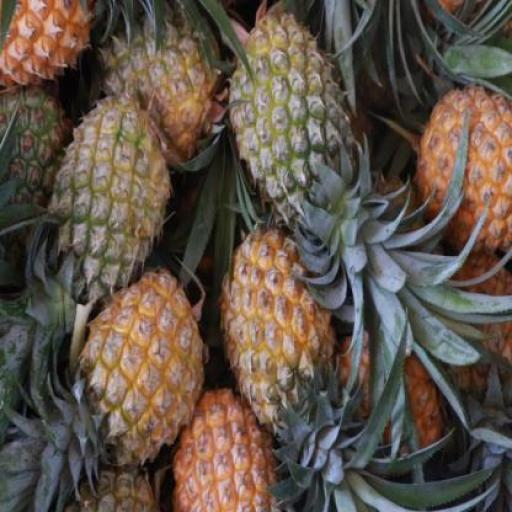------------------------------: (228, 6, 348, 220), (55, 105, 165, 299), (99, 4, 219, 162)
Pineapple - v8 v1: (81, 270, 205, 468), (220, 231, 329, 427), (413, 85, 512, 259), (169, 391, 281, 512)
